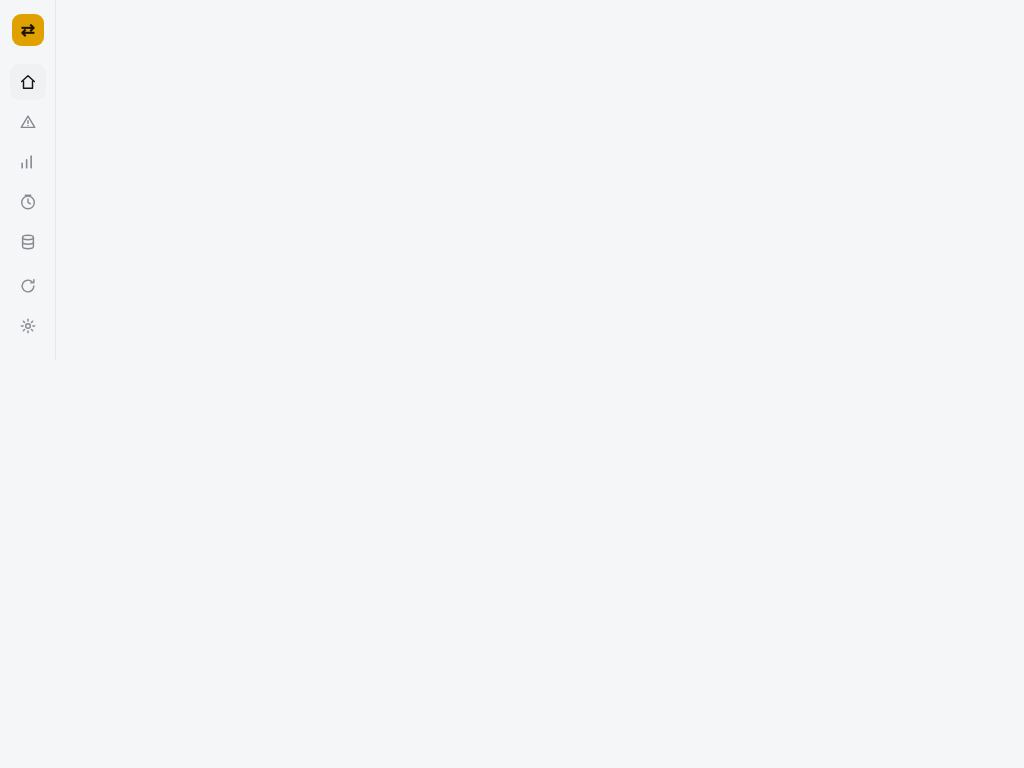
Test: the reload-demo-data control › reloads only once the confirmation is accepted
Click the button named "reload demo data" at (28, 286), box [10,268,46,304]
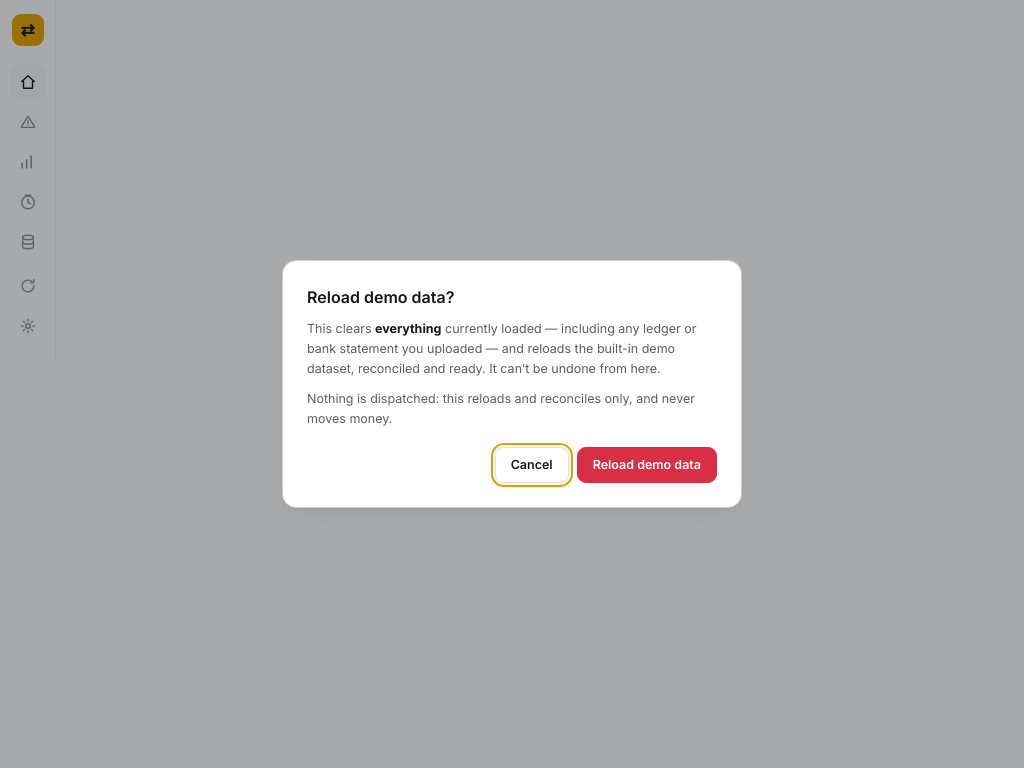
Click the button "Reload demo data" at (647, 465), box [577,447,717,483]
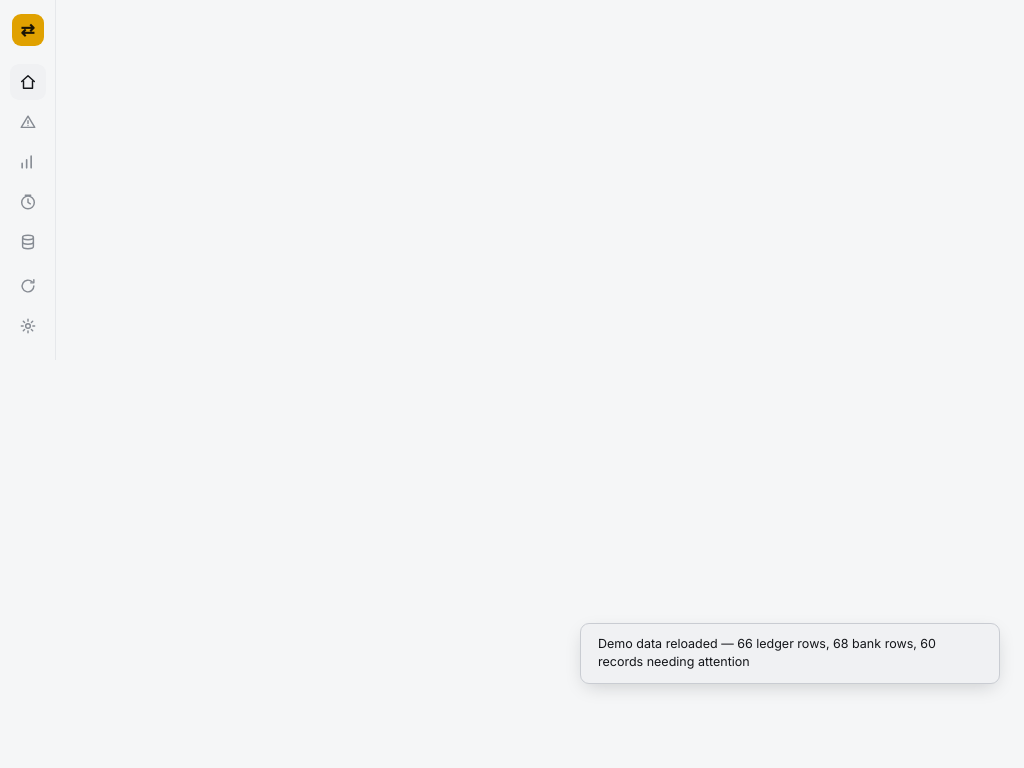
Expected: the message shows "66 ledger rows", [598,636,936,669]
